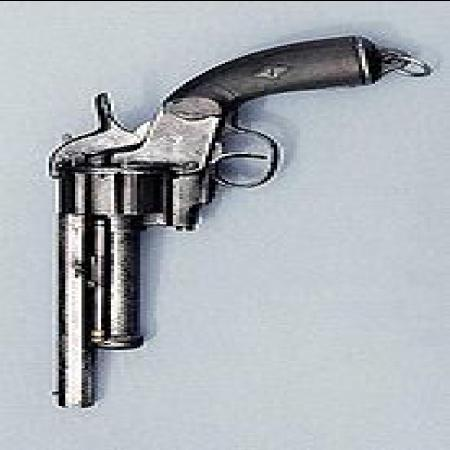Pistol: (42, 27, 378, 407)
